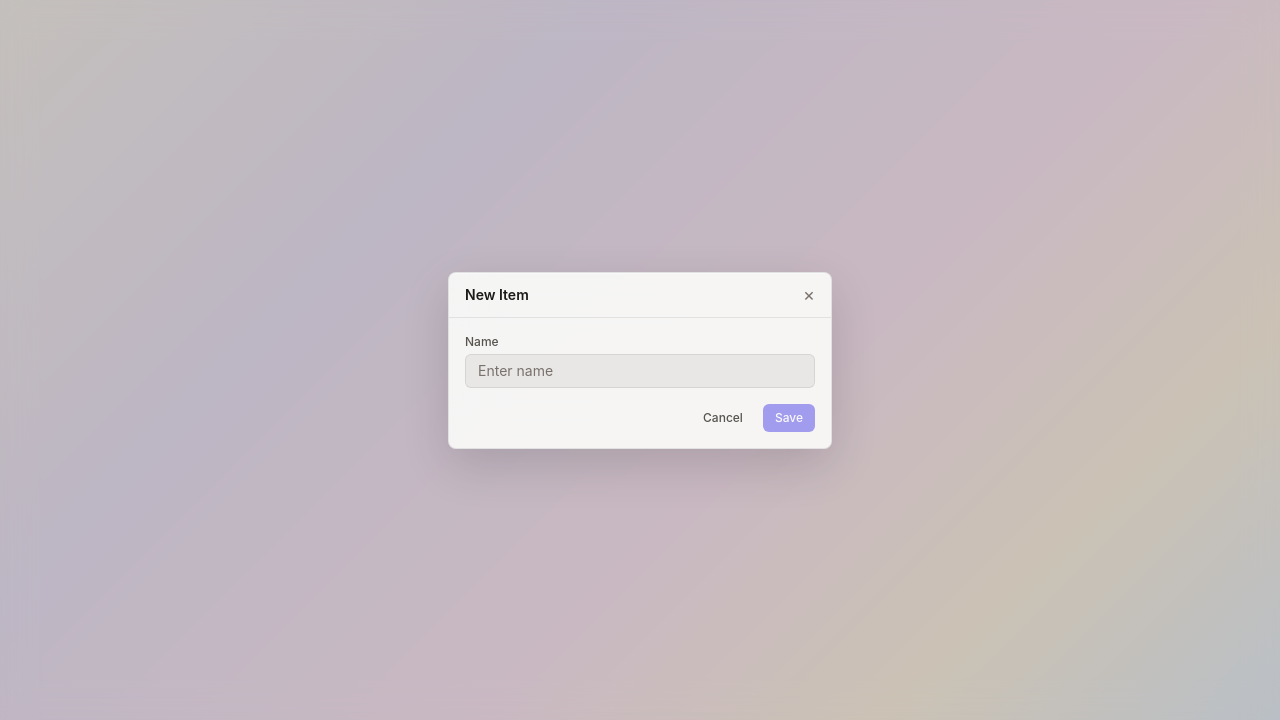
Test: InputDialog › submit button enables when required field has value
Type "test" into the field with placeholder "Enter name".
click(640, 370); type("test")  # box [465,354,815,388]
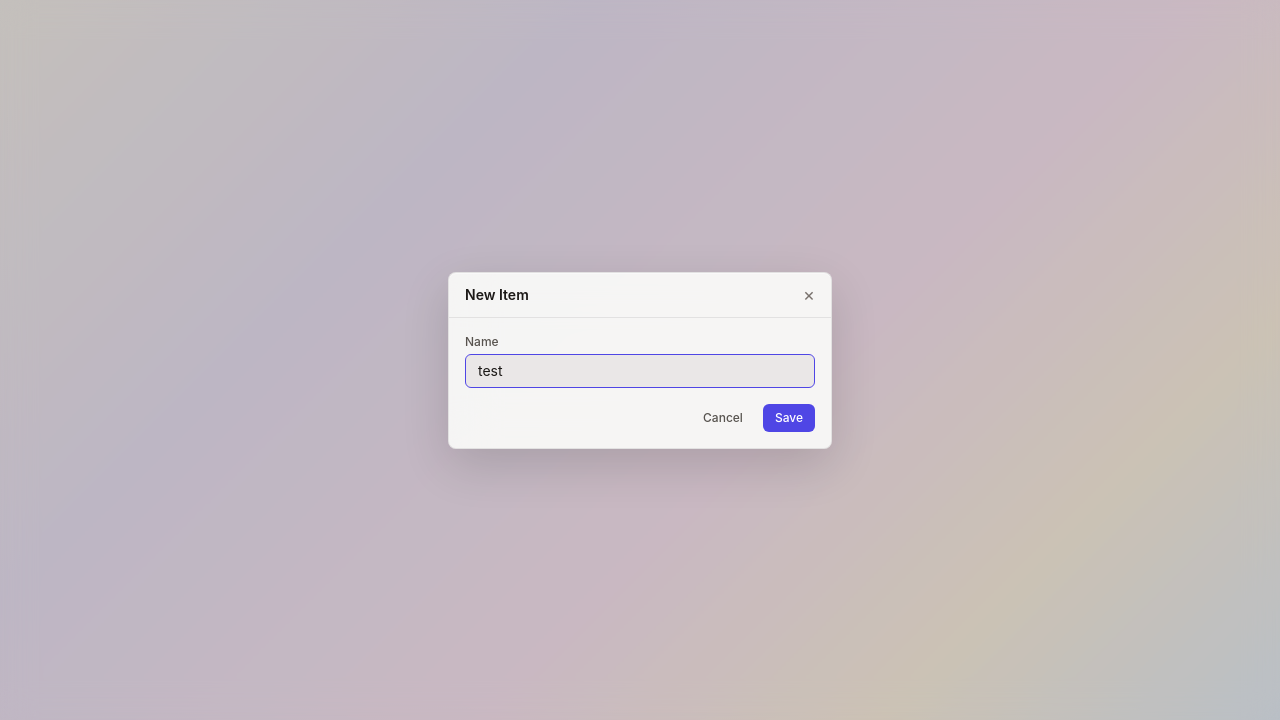
Expected: the button "Save" is enabled, [763,404,815,432]
